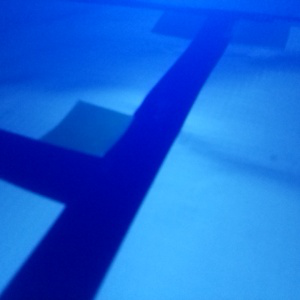bottom_left: (151, 8, 231, 39)
bottom_right: (208, 11, 291, 49)
top_left: (39, 100, 137, 197)
